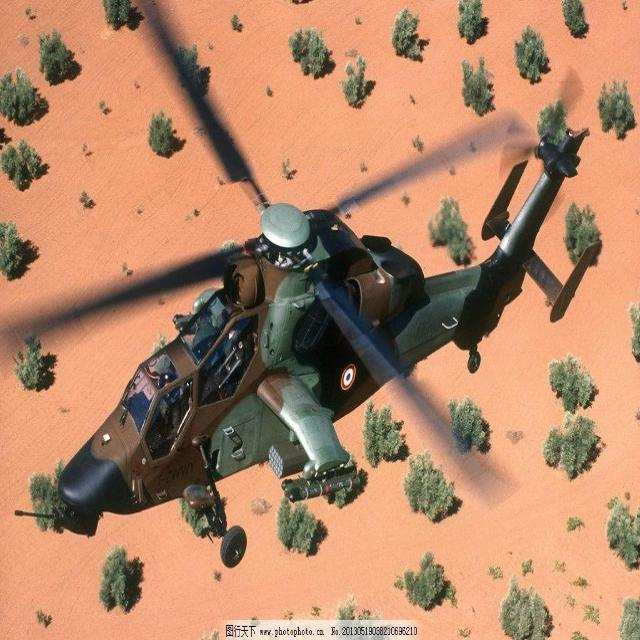MIL_HELO: (18, 7, 629, 586)
